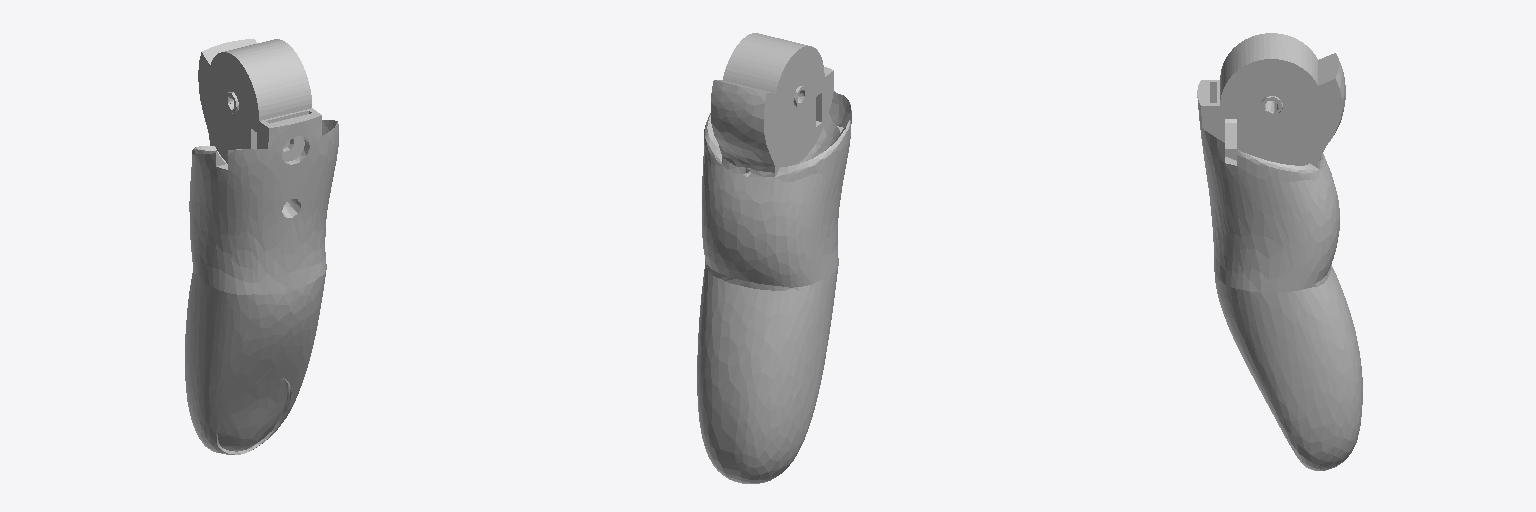
File: armar-7_index_intermediate_distal_phalanx.obj
3 renders of one model, left to right at view 1: azimuth 30°, elevation 25°; view 2: azimuth 150°, elevation 25°; view 3: azimuth 270°, elevation 25°, orthographic.
Size of the model in its own units: 0.0203 by 0.0633 by 0.0226.